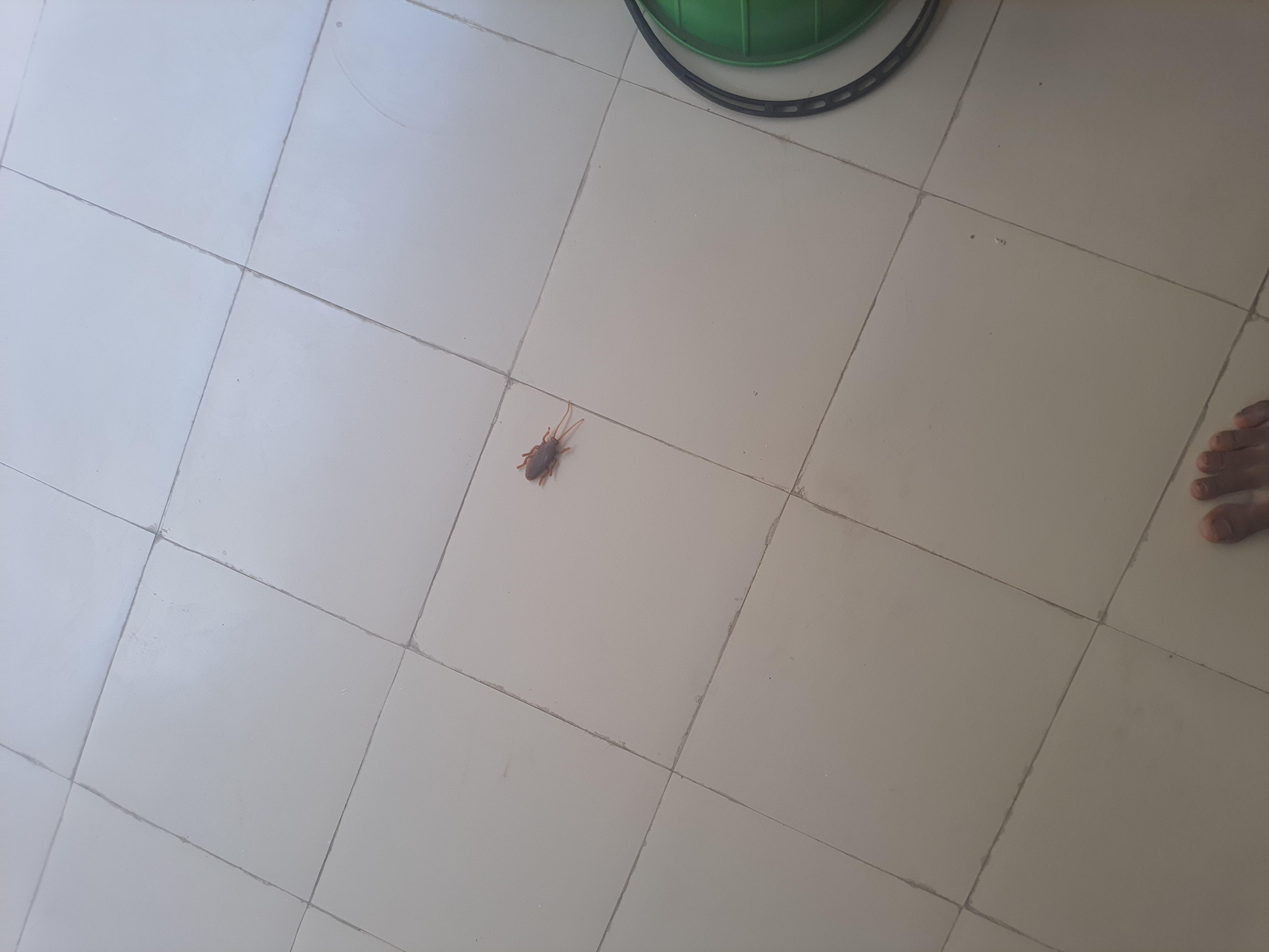cockroach: (609, 375, 713, 434)
